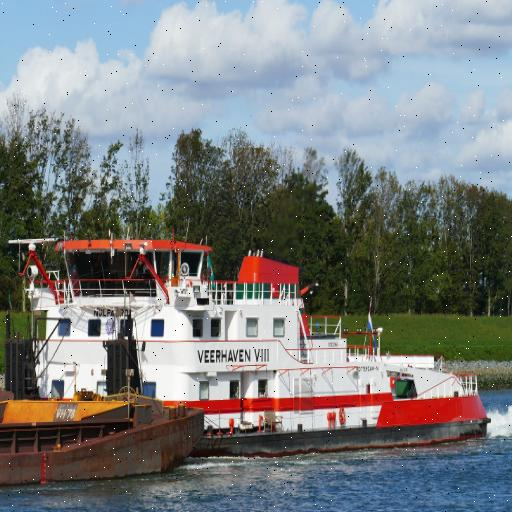tugboat: (1, 222, 496, 465)
